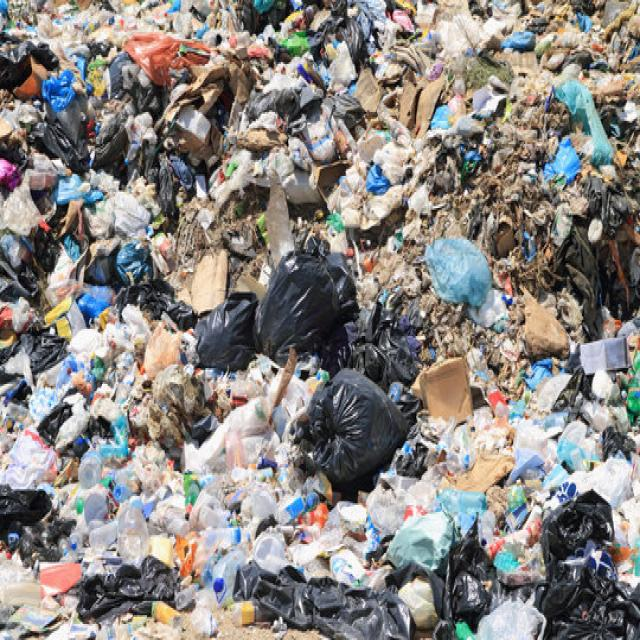plastic: (78, 458, 139, 546), (191, 525, 245, 599)
trash: (8, 9, 633, 434), (383, 505, 519, 611)
